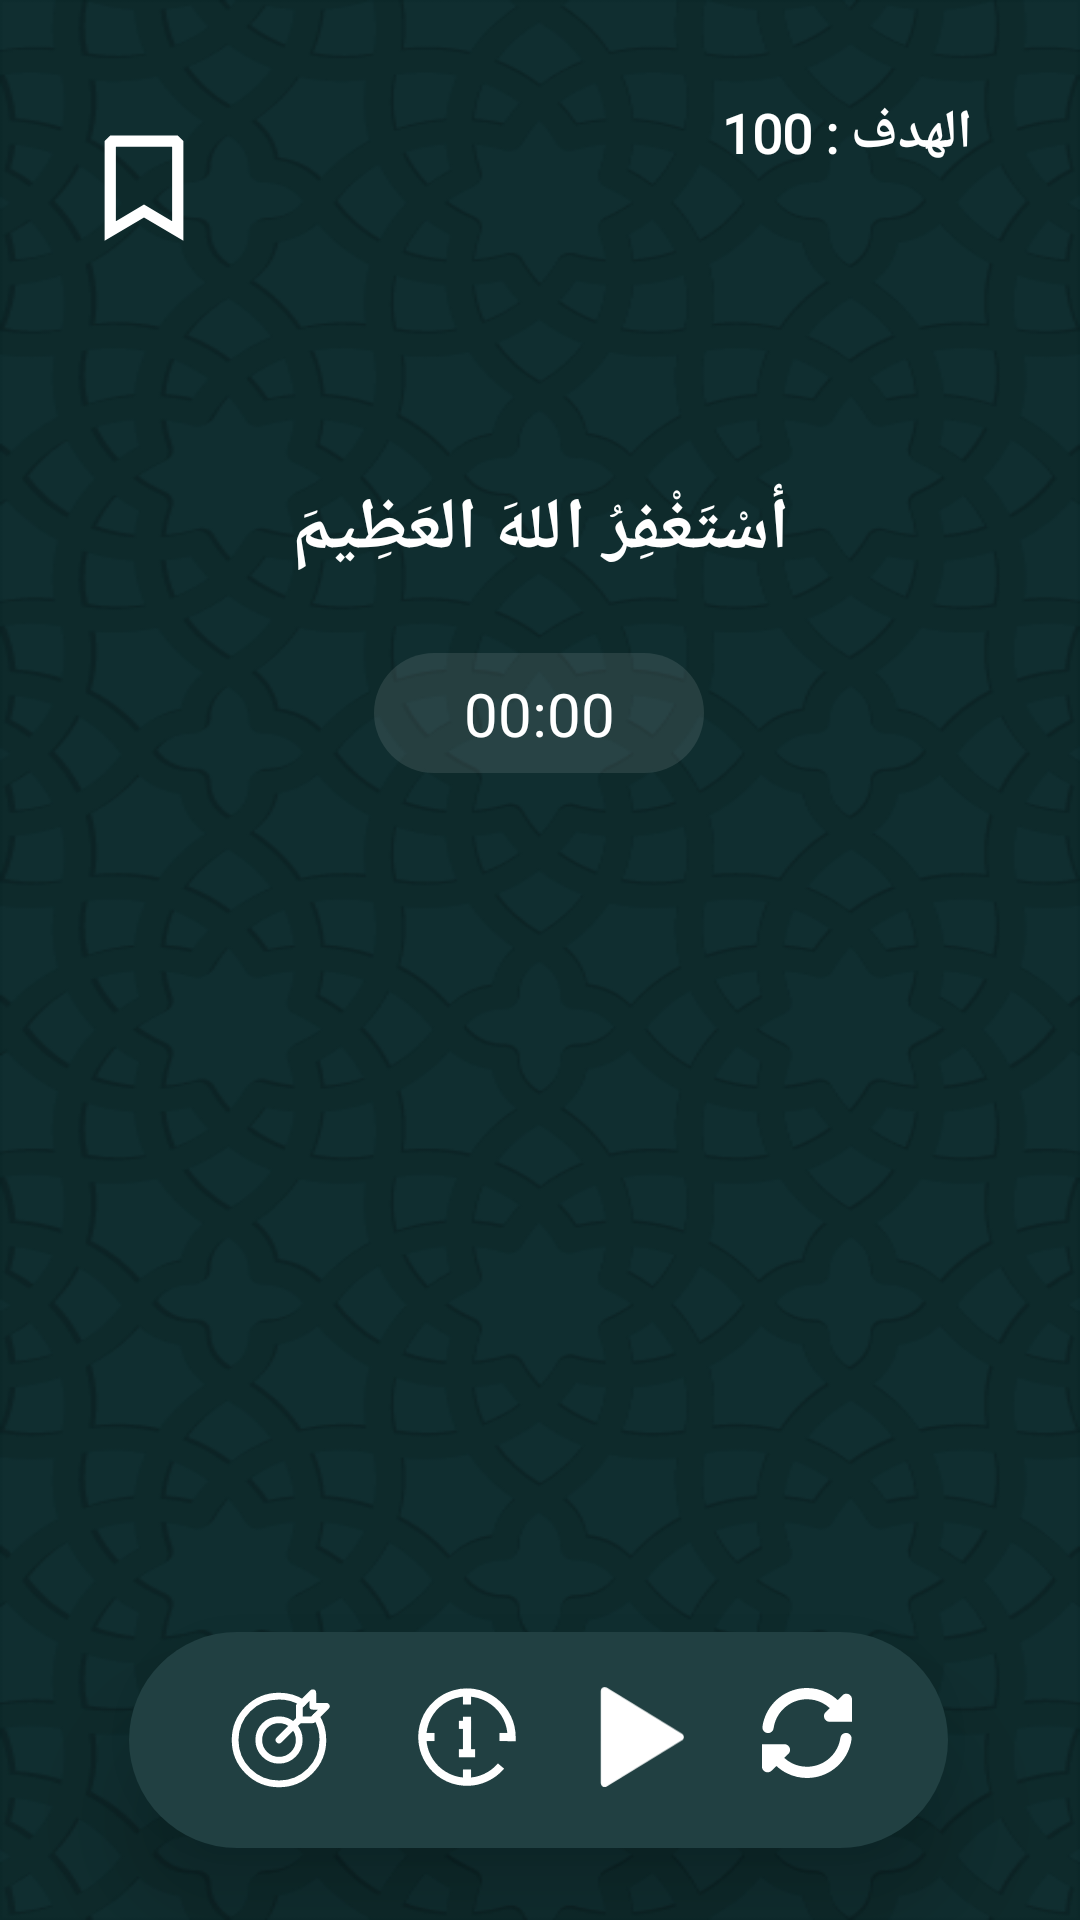

Icon bounding boxes for this 1080px×1920px phone screenshot, format (x1, y1, x2, y2):
goal: (231, 1689, 330, 1788)
play: (600, 1687, 684, 1787)
reset: (762, 1688, 852, 1778)
save: (104, 135, 184, 241)
